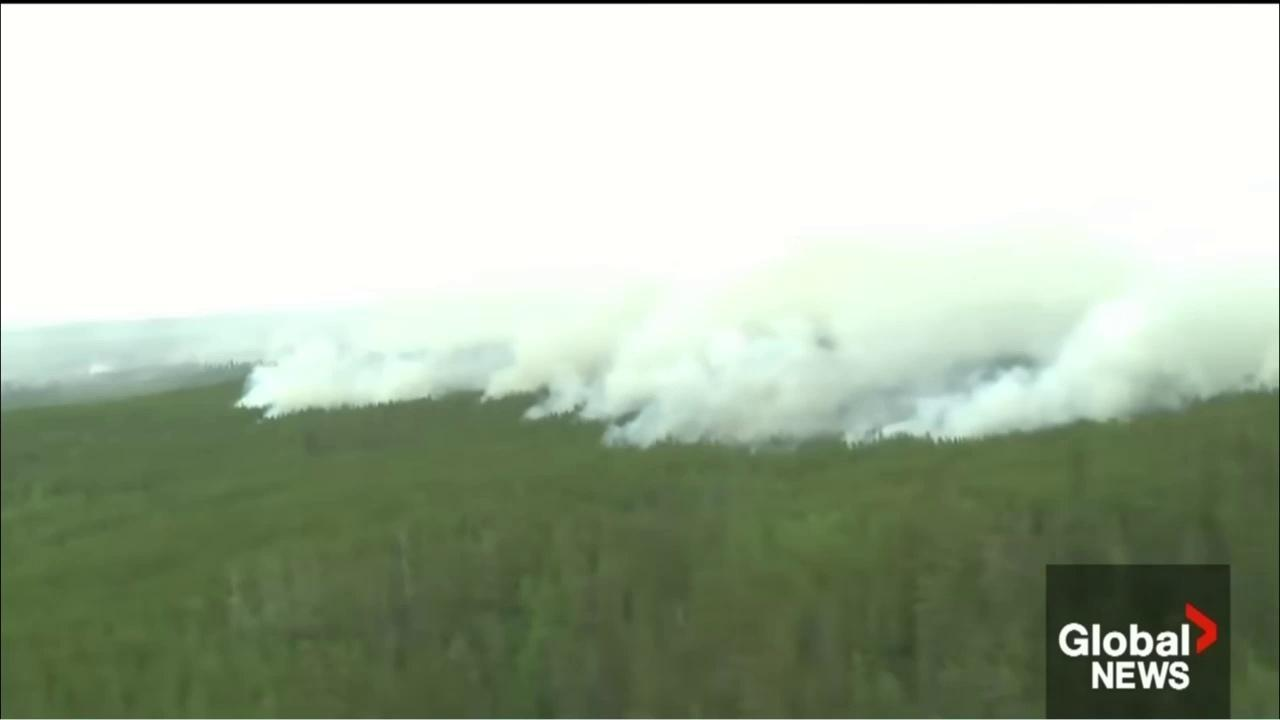smoke: (1, 4, 1279, 454)
